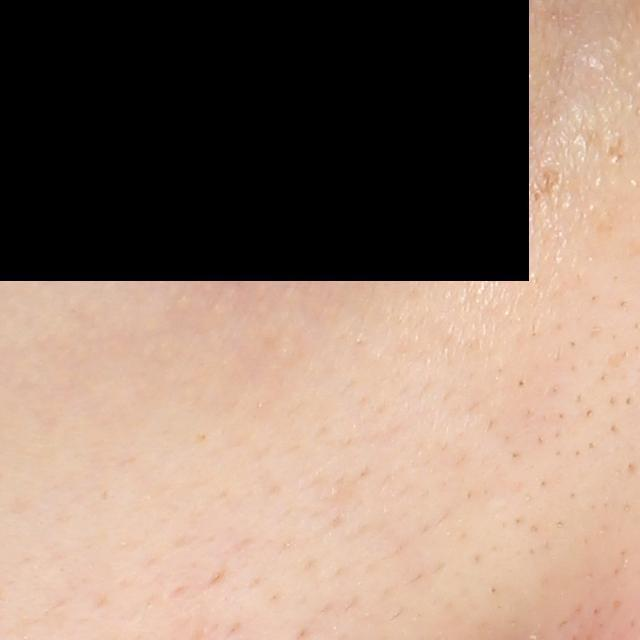melasma: (527, 166, 565, 209), (605, 135, 624, 163)
